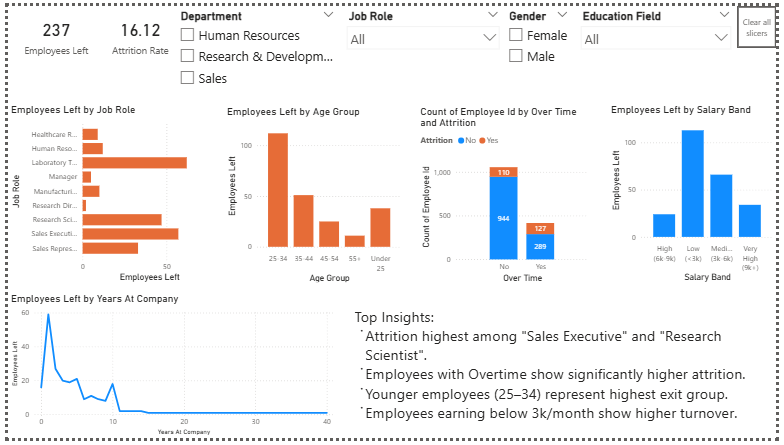

This screenshot's page, from the dashboard's own definition file:
{"tool":"powerbi","page":{"name":"02_Attrition_DeepDive","canvas":[1280,720],"ordinal":1},"visuals":[{"type":"card","fields":{"Values":["HR-Employee-Attrition.Employees Left"]},"box":[0,0,160,98],"z":0},{"type":"card","fields":{"Values":["HR-Employee-Attrition.Attrition Rate"]},"box":[136,0,170,98],"z":1000},{"type":"slicer","fields":{"Values":["HR-Employee-Attrition.Department"]},"box":[274,0,280,162],"z":2000},{"type":"slicer","fields":{"Values":["HR-Employee-Attrition.Job Role"]},"box":[554,0,274,140],"z":3000},{"type":"slicer","fields":{"Values":["HR-Employee-Attrition.Gender"]},"box":[822,0,122,112],"z":4000},{"type":"slicer","fields":{"Values":["HR-Employee-Attrition.Education Field"]},"box":[944,0,270,140],"z":5000},{"type":"clusteredBarChart","fields":{"Category":["HR-Employee-Attrition.Job Role"],"Y":["HR-Employee-Attrition.Employees Left"]},"box":[0,162,360,302],"z":6000},{"type":"clusteredColumnChart","fields":{"Y":["HR-Employee-Attrition.Employees Left"],"Category":["HR-Employee-Attrition.Age Group"]},"box":[360,164,300,300],"z":7000},{"type":"columnChart","fields":{"Category":["HR-Employee-Attrition.Over Time"],"Series":["HR-Employee-Attrition.Attrition"],"Y":["CountNonNull(HR-Employee-Attrition.Employee Id)"]},"box":[682,164,290,300],"z":8000},{"type":"columnChart","fields":{"Category":["HR-Employee-Attrition.Salary Band"],"Y":["HR-Employee-Attrition.Employees Left"]},"box":[1000,162,280,302],"z":9000},{"type":"lineChart","fields":{"Category":["HR-Employee-Attrition.Years At Company"],"Y":["HR-Employee-Attrition.Employees Left"]},"box":[0,478,546,242],"z":10000},{"type":"textbox","box":[572,496,708,224],"z":11000},{"type":"actionButton","box":[1214,0,66,70],"z":12000}]}

Visuals, with their boxes in screenshot pixels (x1, y1, x2, y2), scaled from the page's 1280x720 canvas onto the 784x445 screenshot:
card - HR-Employee-Attrition.Employees Left: pyautogui.locateOnScreen(0, 0, 98, 61)
card - HR-Employee-Attrition.Attrition Rate: pyautogui.locateOnScreen(83, 0, 187, 61)
slicer - HR-Employee-Attrition.Department: pyautogui.locateOnScreen(168, 0, 339, 100)
slicer - HR-Employee-Attrition.Job Role: pyautogui.locateOnScreen(339, 0, 507, 87)
slicer - HR-Employee-Attrition.Gender: pyautogui.locateOnScreen(503, 0, 578, 69)
slicer - HR-Employee-Attrition.Education Field: pyautogui.locateOnScreen(578, 0, 744, 87)
clusteredBarChart - HR-Employee-Attrition.Job Role x HR-Employee-Attrition.Employees Left: pyautogui.locateOnScreen(0, 100, 221, 287)
clusteredColumnChart - HR-Employee-Attrition.Employees Left x HR-Employee-Attrition.Age Group: pyautogui.locateOnScreen(221, 101, 404, 287)
columnChart - HR-Employee-Attrition.Over Time x HR-Employee-Attrition.Attrition: pyautogui.locateOnScreen(418, 101, 595, 287)
columnChart - HR-Employee-Attrition.Salary Band x HR-Employee-Attrition.Employees Left: pyautogui.locateOnScreen(612, 100, 783, 287)
lineChart - HR-Employee-Attrition.Years At Company x HR-Employee-Attrition.Employees Left: pyautogui.locateOnScreen(0, 295, 334, 444)
textbox: pyautogui.locateOnScreen(350, 307, 783, 444)
actionButton: pyautogui.locateOnScreen(744, 0, 783, 43)
